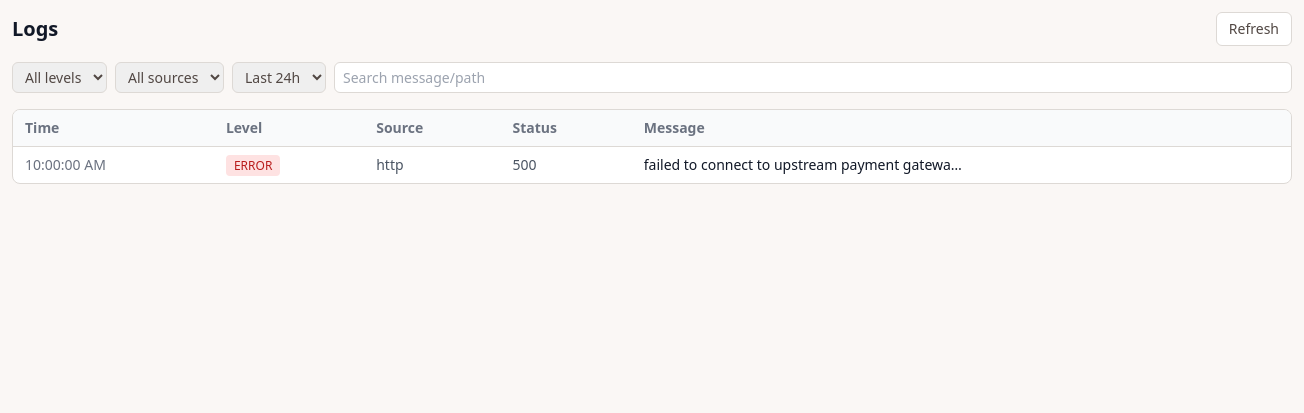
LogsPage › shows the full message in the expanded panel
Click the text "failed to connect to upstream payment gateway: dial tcp 10.0.3.2:443: i/o timeout after 3 retries while processing order": coordinates (804, 165) [644,155,964,175]
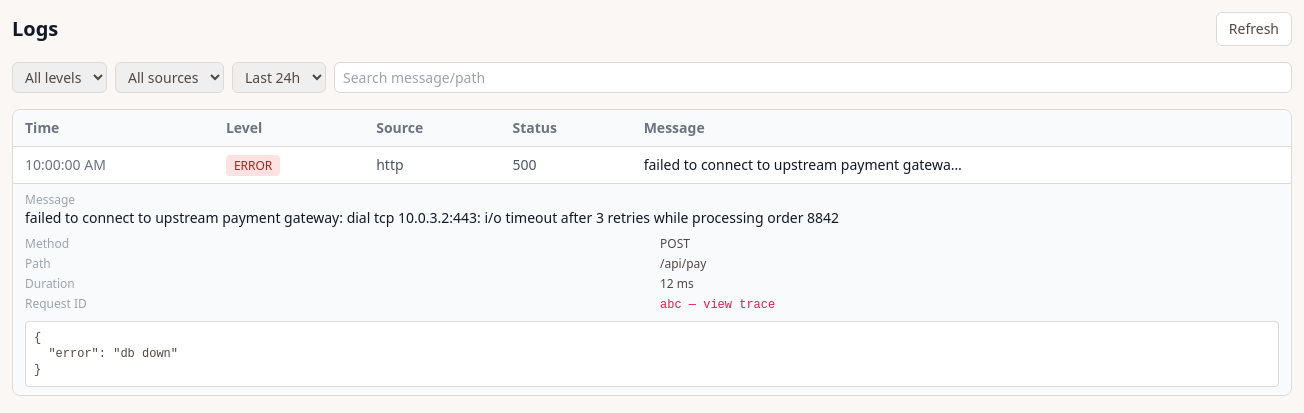
Result: the text with test id "log-full-message" shows "failed to connect to upstream payment gateway: dial tcp 10.0.3.2:443: i/o timeout after 3 retries while processing order 8842" at [25,208,839,227]
